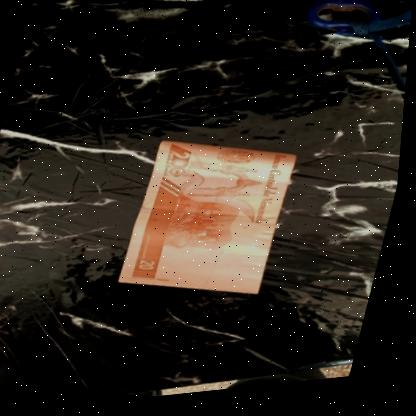twenty-back-vef: (119, 130, 303, 312)
